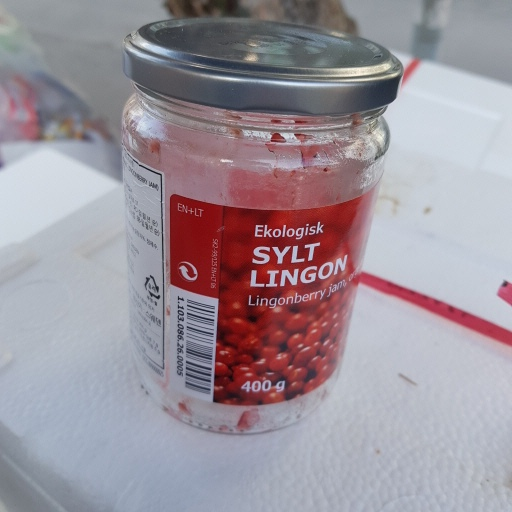Glass_5: (118, 13, 405, 438)
